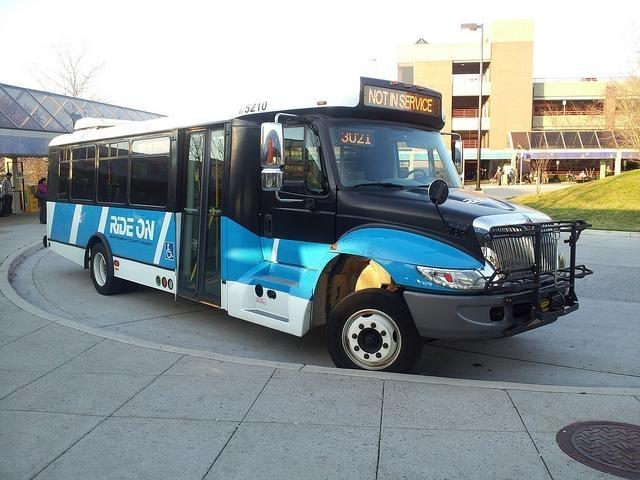bus: (46, 78, 584, 372)
